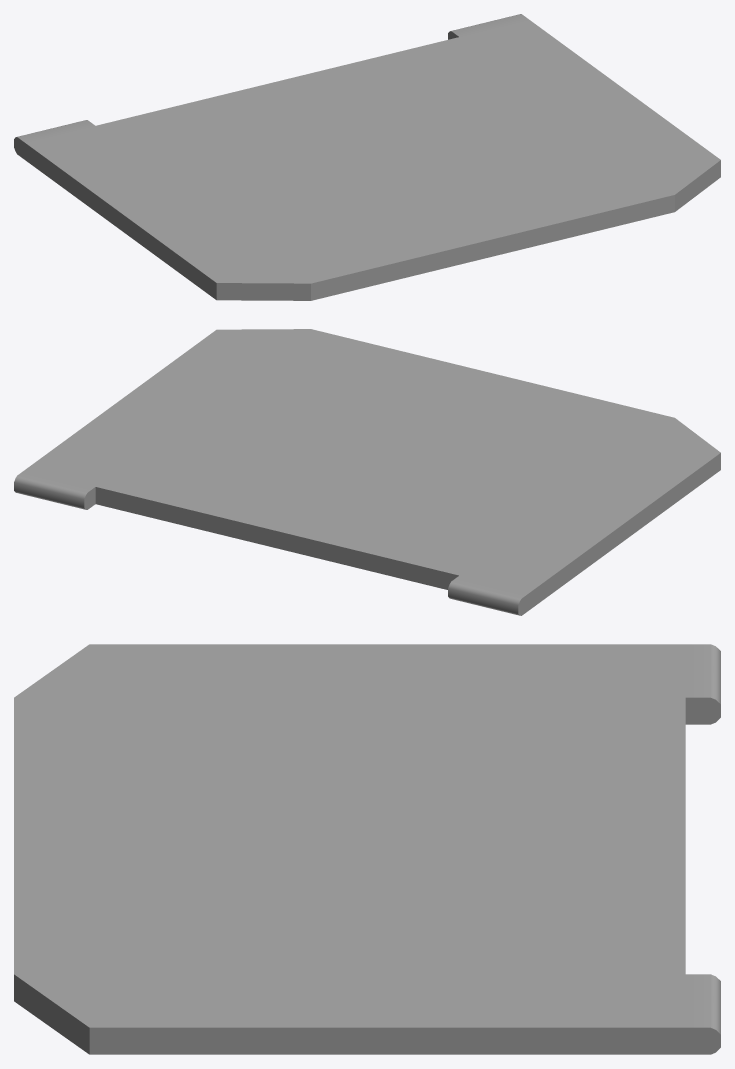
File: LidMeshLaptopLid_25_0_GeomSubset_0.obj
The picture shows the model from 3 angles, top to bottom: view 1: azimuth 30°, elevation 25°; view 2: azimuth 150°, elevation 25°; view 3: azimuth 270°, elevation 25°; orthographic projection. The views are drawn at different scales.
Parts seen in each view (by area): view 1: LidMeshLaptopLid_25_0_GeomSubset_0; view 2: LidMeshLaptopLid_25_0_GeomSubset_0; view 3: LidMeshLaptopLid_25_0_GeomSubset_0.
Part boxes in pixels (x1,y1,x2,y2): LidMeshLaptopLid_25_0_GeomSubset_0: (14, 14, 720, 300); LidMeshLaptopLid_25_0_GeomSubset_0: (14, 329, 720, 615); LidMeshLaptopLid_25_0_GeomSubset_0: (14, 644, 720, 1054).
Size of the model in its own units: 0.4299 by 0.0141 by 0.3349.
